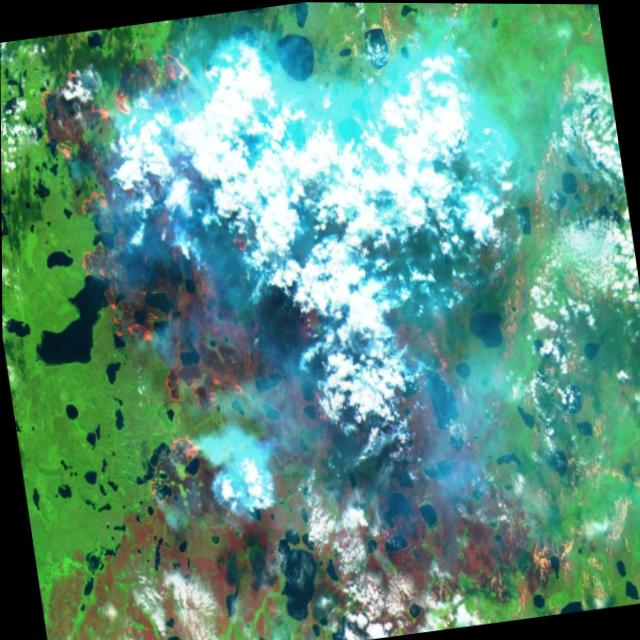fire: (20, 0, 425, 537)
